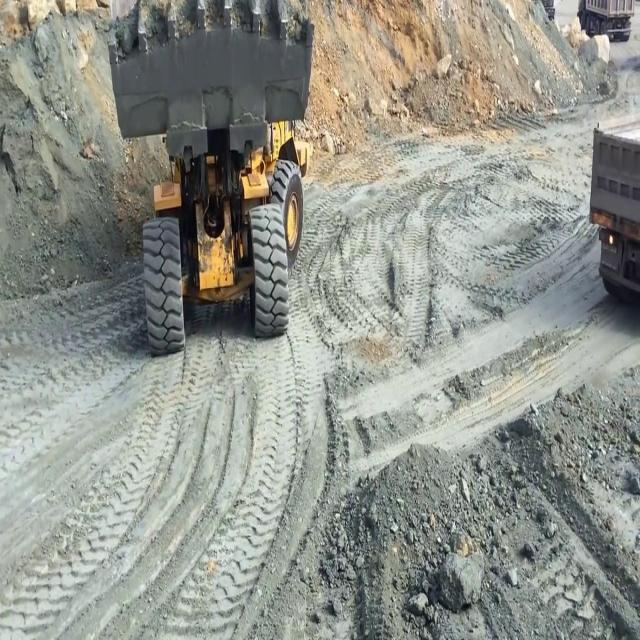Dump Truck: (587, 111, 639, 306), (577, 0, 633, 41)
Loader: (100, 0, 324, 358)
